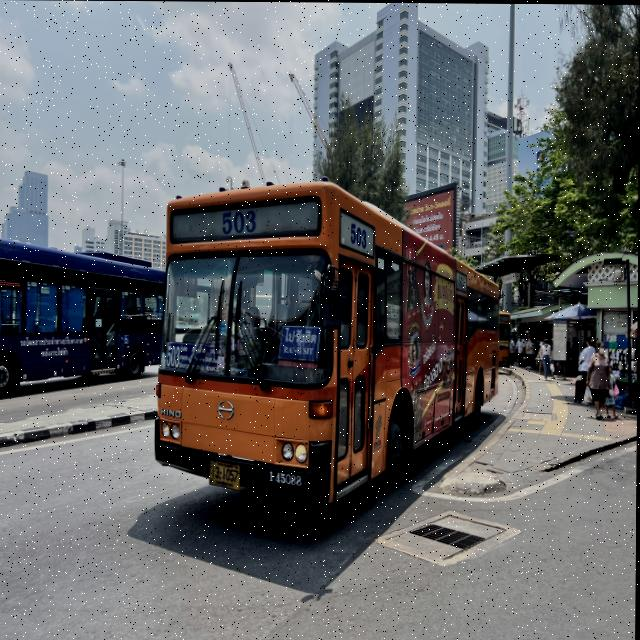BMTA-bus: (154, 181, 503, 507)
Bus-Line-Number: (216, 204, 263, 239)
Destination-Sign-Normal: (281, 321, 324, 363)
TSB-Bus: (0, 240, 167, 400)
